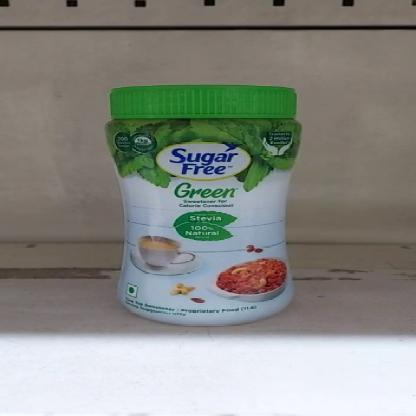SUGAR FREE_GRN_ POWDER_CONC_100G: (103, 84, 304, 328)
